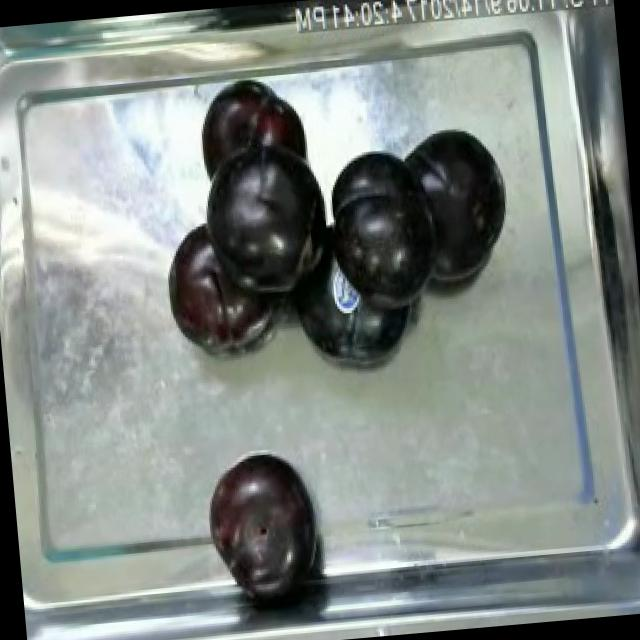Fruit: (323, 134, 449, 314), (197, 442, 325, 594), (158, 222, 252, 361)
